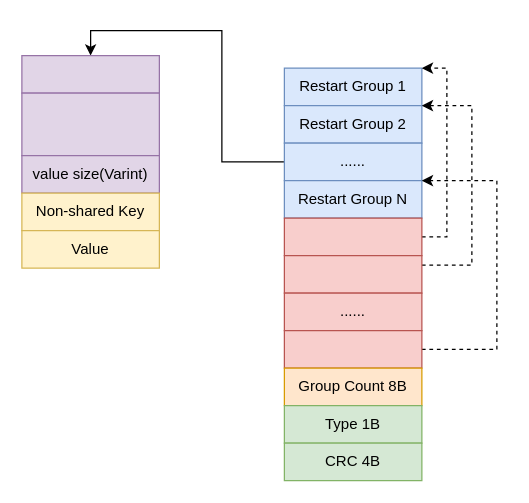
The diagram is 529 pixels wide and 503 high, and some of its shapes have lost their labels. Here are the shapes that lost their labels. From the top down, the box of each, then its label:
(21, 54, 159, 93): shared size(Varint)
(21, 92, 159, 156): Non-shared size (Varint)
(283, 217, 422, 256): Restart Offset 1
(283, 254, 422, 293): Restart Offset 2
(283, 329, 422, 368): Restart Offset N
